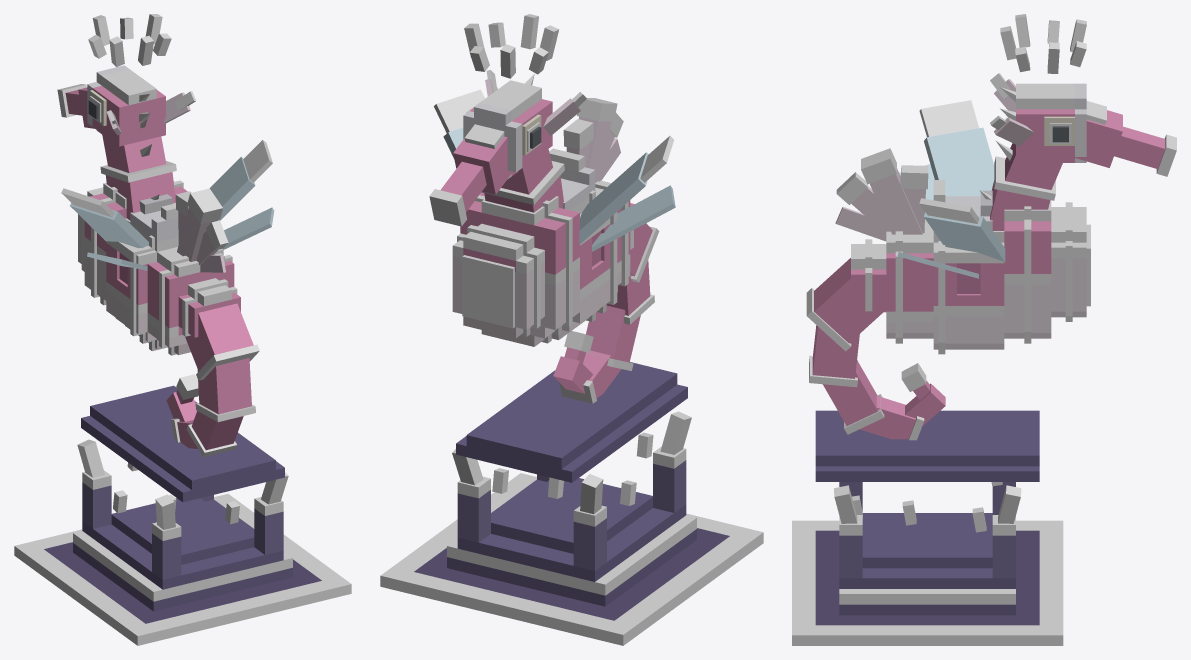
File: SeahorseTrainer12.glb
The picture shows the model from 3 angles, left to right: view 1: azimuth 30°, elevation 25°; view 2: azimuth 150°, elevation 25°; view 3: azimuth 270°, elevation 25°; orthographic projection. The views are drawn at different scales.
Visible parts, largest first — view 1: Stand, Stand_Glow, Body, Plate, Head, Body_Glow, Wings, T1, T2, Crown, Fin, Fin_Glow (+7 smaller); view 2: Stand, Stand_Glow, Body, Plate, Head, Body_Glow, Wings, Crown, T3, Wings_Glow, Fin_Glow, Fin (+6 smaller); view 3: Body, Stand, Stand_Glow, Plate, Head, Body_Glow, Wings, Fin, T1, Wings_Glow, Crown, Fin_Glow (+7 smaller).
Boxes of the visible parts, left/top/right/bottom form: Stand: left=44, top=482, right=321, bottom=623; Stand_Glow: left=14, top=439, right=351, bottom=645; Body: left=78, top=119, right=240, bottom=355; Plate: left=81, top=385, right=284, bottom=502; Head: left=65, top=65, right=190, bottom=146; Body_Glow: left=81, top=161, right=237, bottom=355; Wings: left=70, top=157, right=274, bottom=270; T1: left=185, top=303, right=253, bottom=370; T2: left=197, top=358, right=251, bottom=414; Crown: left=88, top=14, right=171, bottom=66; Fin: left=177, top=207, right=225, bottom=272; Fin_Glow: left=175, top=188, right=228, bottom=250; Stand: left=414, top=460, right=729, bottom=620; Stand_Glow: left=380, top=411, right=763, bottom=645; Body: left=452, top=149, right=637, bottom=346; Plate: left=456, top=362, right=687, bottom=482; Head: left=440, top=74, right=580, bottom=211; Body_Glow: left=452, top=148, right=633, bottom=343; Wings: left=443, top=127, right=675, bottom=251; Crown: left=464, top=14, right=559, bottom=78; T3: left=586, top=305, right=640, bottom=362; Wings_Glow: left=434, top=89, right=673, bottom=182; Fin_Glow: left=563, top=98, right=623, bottom=150; Fin: left=566, top=116, right=620, bottom=182; Body: left=851, top=117, right=1090, bottom=349; Stand: left=815, top=482, right=1039, bottom=625; Stand_Glow: left=792, top=485, right=1063, bottom=645; Plate: left=815, top=410, right=1039, bottom=481; Head: left=994, top=79, right=1165, bottom=169; Body_Glow: left=865, top=156, right=1086, bottom=354; Wings: left=897, top=127, right=1005, bottom=278; Fin: left=835, top=168, right=925, bottom=241; T1: left=814, top=258, right=886, bottom=343; Wings_Glow: left=919, top=100, right=979, bottom=223; Crown: left=1000, top=14, right=1086, bottom=73; Fin_Glow: left=836, top=148, right=928, bottom=204.
Size of the model in its own units: 9.2 by 21 by 13.06.
